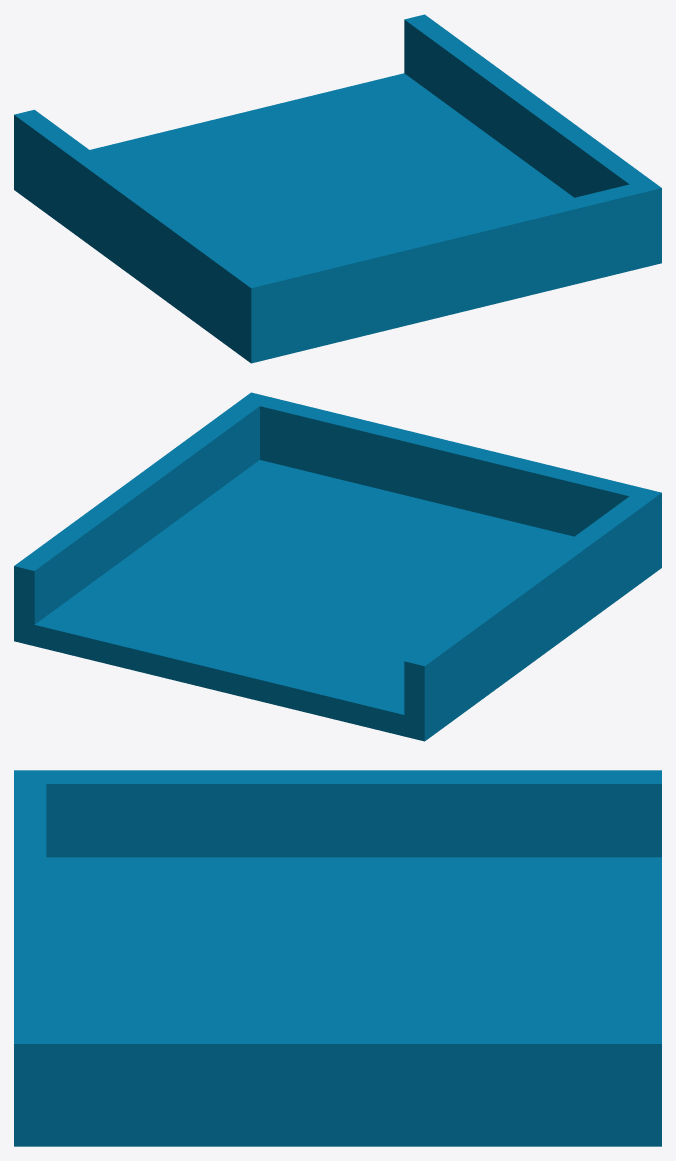
File: BlueRoof_3Edges.glb
3 views of the same model, one above another, from view 1: azimuth 30°, elevation 25°; view 2: azimuth 150°, elevation 25°; view 3: azimuth 270°, elevation 25° (orthographic). The views are drawn at different scales.
Visible parts, largest first — view 1: roof_flat_3Edges_blue; view 2: roof_flat_3Edges_blue; view 3: roof_flat_3Edges_blue.
Boxes of the visible parts, x1=… form: roof_flat_3Edges_blue: x1=14, y1=14, x2=661, y2=363; roof_flat_3Edges_blue: x1=14, y1=392, x2=661, y2=741; roof_flat_3Edges_blue: x1=14, y1=770, x2=661, y2=1146.
Size of what is drawn, in the model's own units: 4 by 0.7 by 4.
Materials: 1 (1 with a texture image).
